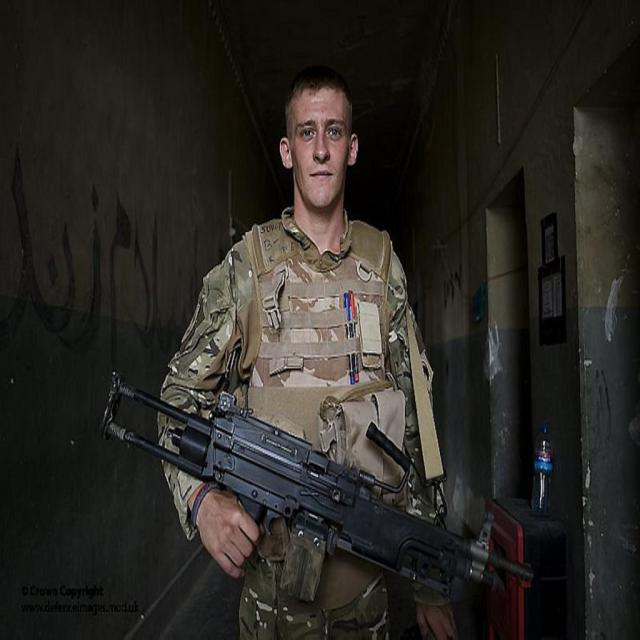Face: (282, 93, 366, 211)
